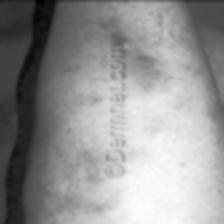Non-Cancerous Skin Condition: (58, 75, 99, 178), (128, 30, 174, 78), (76, 0, 123, 41), (63, 186, 103, 224)
